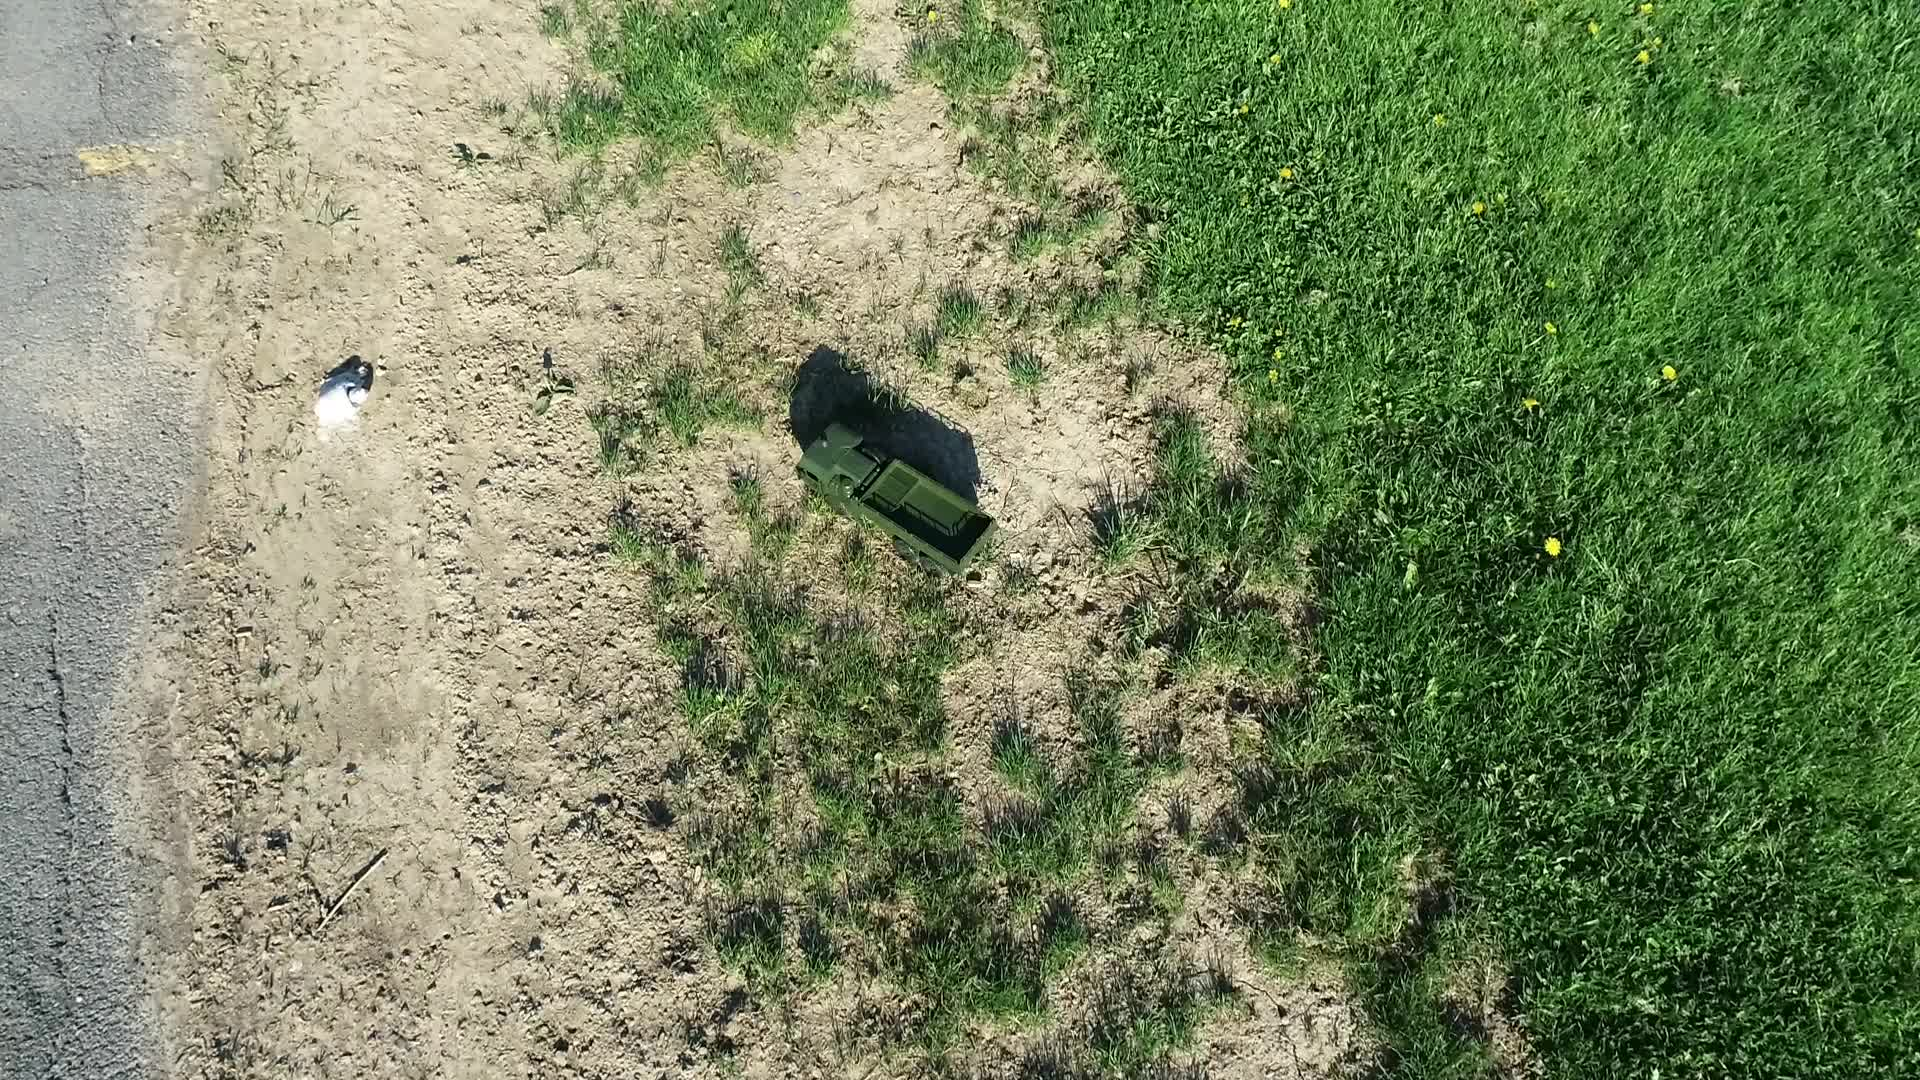transporter9: (793, 406, 1005, 597)
